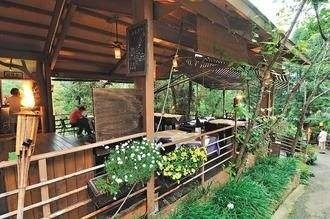fire: (18, 81, 35, 106)
